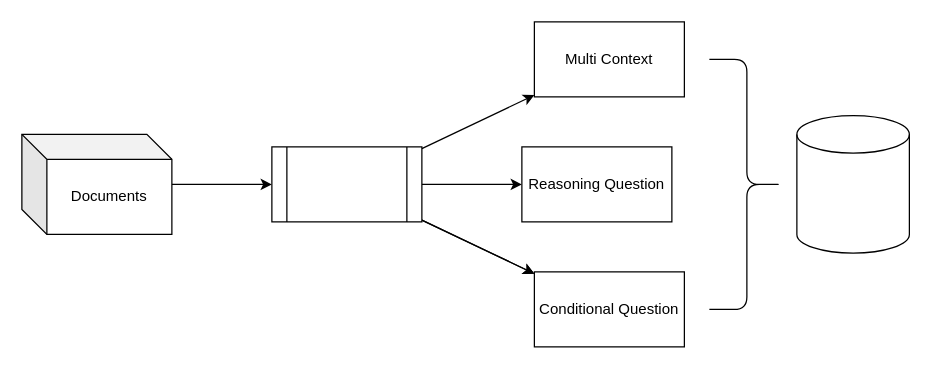
The diagram is 931 pixels wide and 369 high, and some of its shapes have lost their labels. Here are the shapes that lost their labels. From the top down, the centre of each, then its label:
pixel 346 184: Seed question generator
pixel 852 183: Evaluation Dataset
